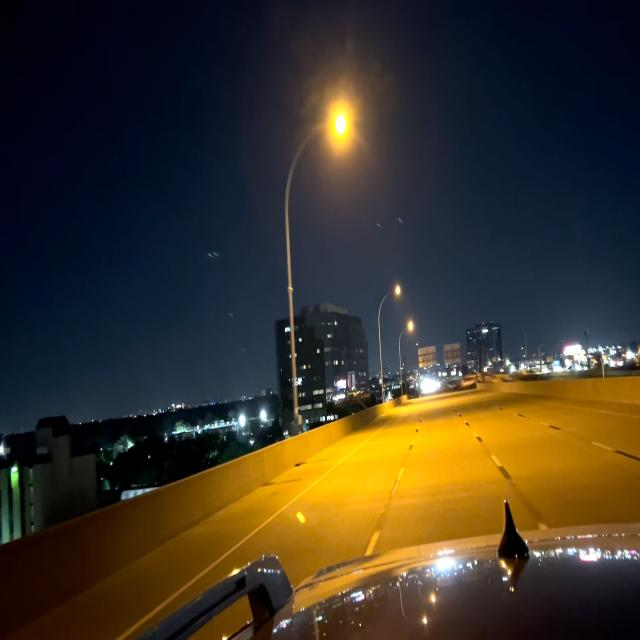back-of-sign: (443, 341, 463, 368), (419, 342, 437, 370)
